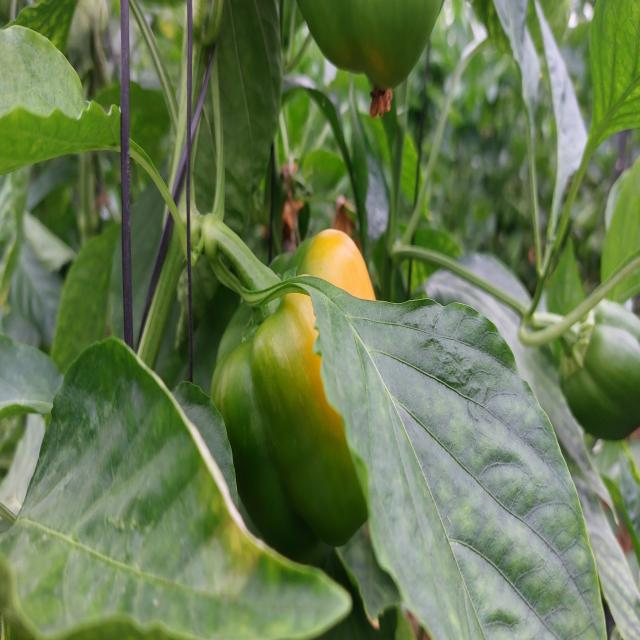GreenishYellow--Can-be-Harvested: (186, 228, 422, 582)
